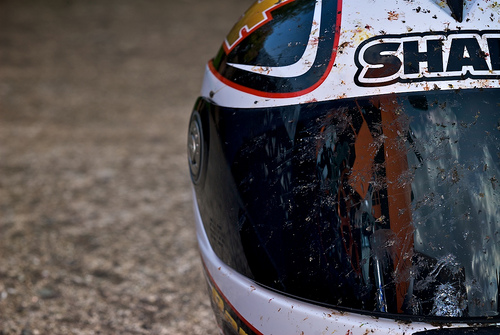helmet: (204, 5, 494, 330)
